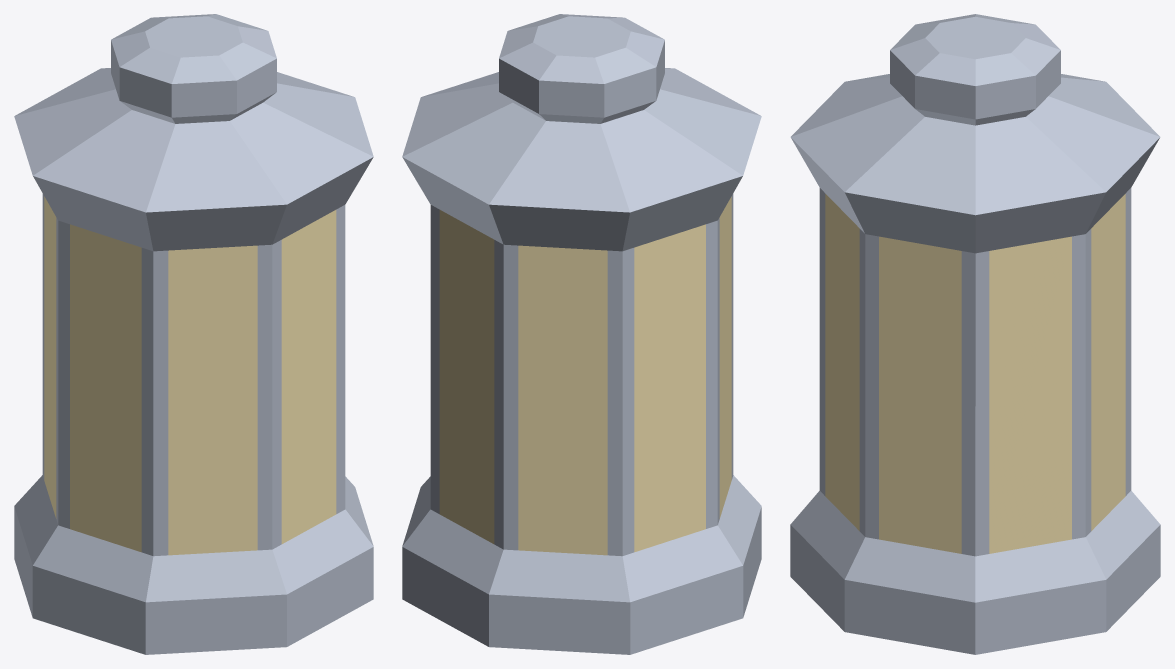
The model's file is Lantern.fbx.
3 views of the same model, side by side, from view 1: azimuth 30°, elevation 25°; view 2: azimuth 150°, elevation 25°; view 3: azimuth 270°, elevation 25° (orthographic).
Visible parts, largest first — view 1: Lantern; view 2: Lantern; view 3: Lantern.
Part boxes in pixels (bbox=[...]): Lantern: bbox=[14, 14, 373, 654]; Lantern: bbox=[402, 14, 761, 654]; Lantern: bbox=[790, 14, 1160, 654].
Bounding box in the file's own units: 0.0988 × 0.1587 × 0.0988.
